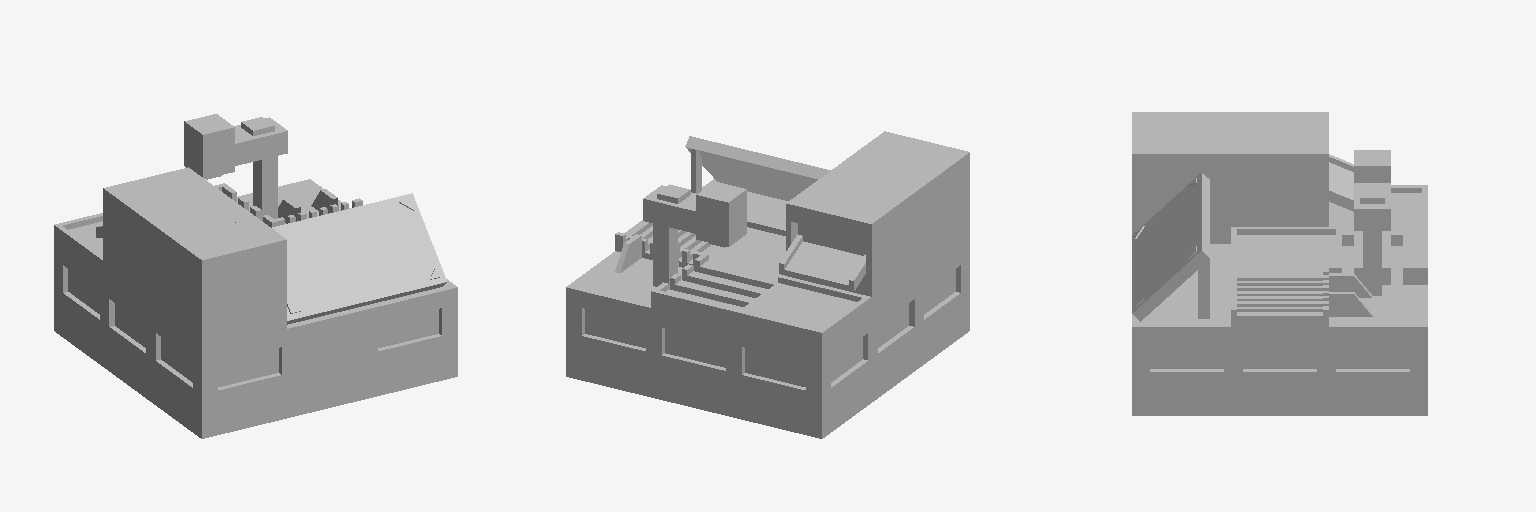
Rendered from auto_workbench.obj.
3 renders of one model, left to right at view 1: azimuth 30°, elevation 25°; view 2: azimuth 150°, elevation 25°; view 3: azimuth 270°, elevation 25°, orthographic.
Visible parts, largest first — view 1: base; view 2: base, conveyors; view 3: base, conveyors.
Boxes of the visible parts, box(x1,y1,x2,y2) form: base: box(54, 114, 457, 438); base: box(566, 131, 969, 438); conveyors: box(624, 220, 856, 328); base: box(1132, 112, 1427, 415); conveyors: box(1237, 193, 1421, 326).
Bounding box in the file's own units: 3 × 2.19 × 3.